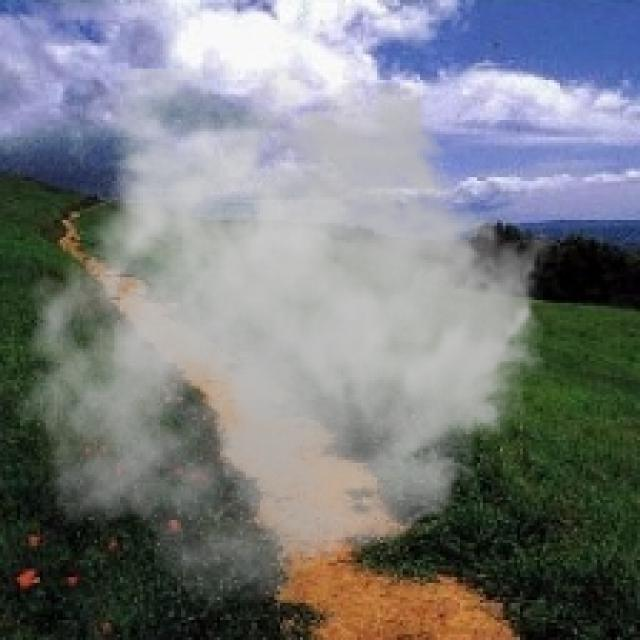smoke: (12, 69, 557, 606)
